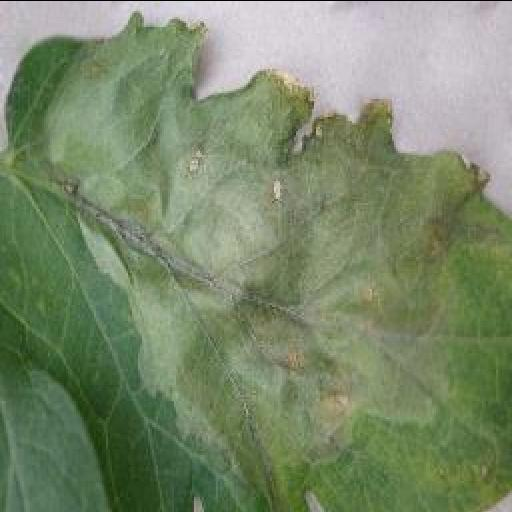disease_tomato: (0, 8, 512, 512)
